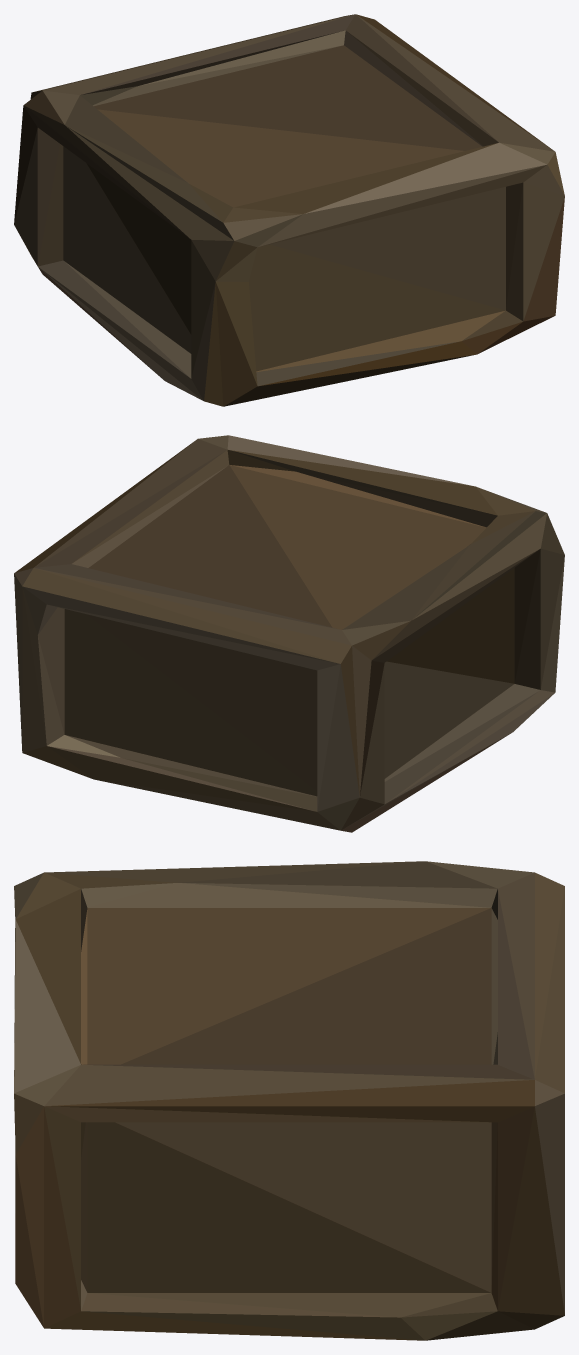
File: Prop-CrateB.fbx
3 renders of one model, top to bottom at view 1: azimuth 30°, elevation 25°; view 2: azimuth 150°, elevation 25°; view 3: azimuth 270°, elevation 25°, orthographic. The views are drawn at different scales.
Parts seen in each view (by area): view 1: Prop-CrateB; view 2: Prop-CrateB; view 3: Prop-CrateB.
Boxes of the visible parts, bbox=[...] form: Prop-CrateB: bbox=[14, 14, 564, 406]; Prop-CrateB: bbox=[14, 435, 564, 832]; Prop-CrateB: bbox=[14, 861, 564, 1340].
Size of the model in its own units: 100 by 50 by 100.
